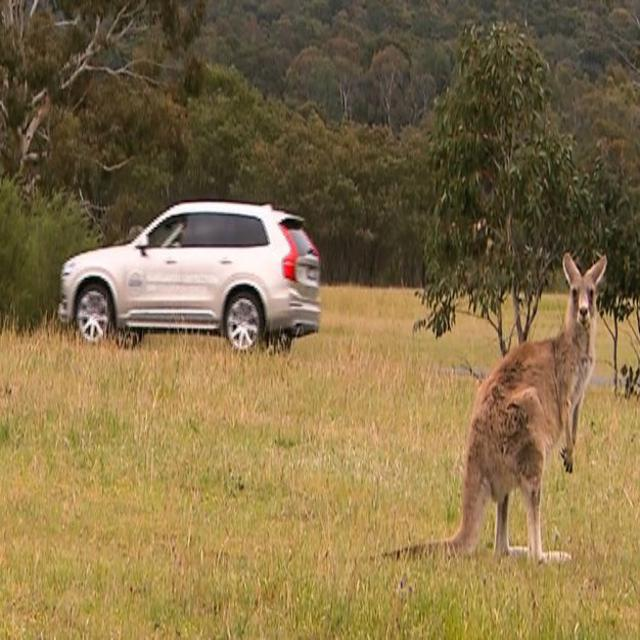kangaroo: (450, 252, 609, 558)
